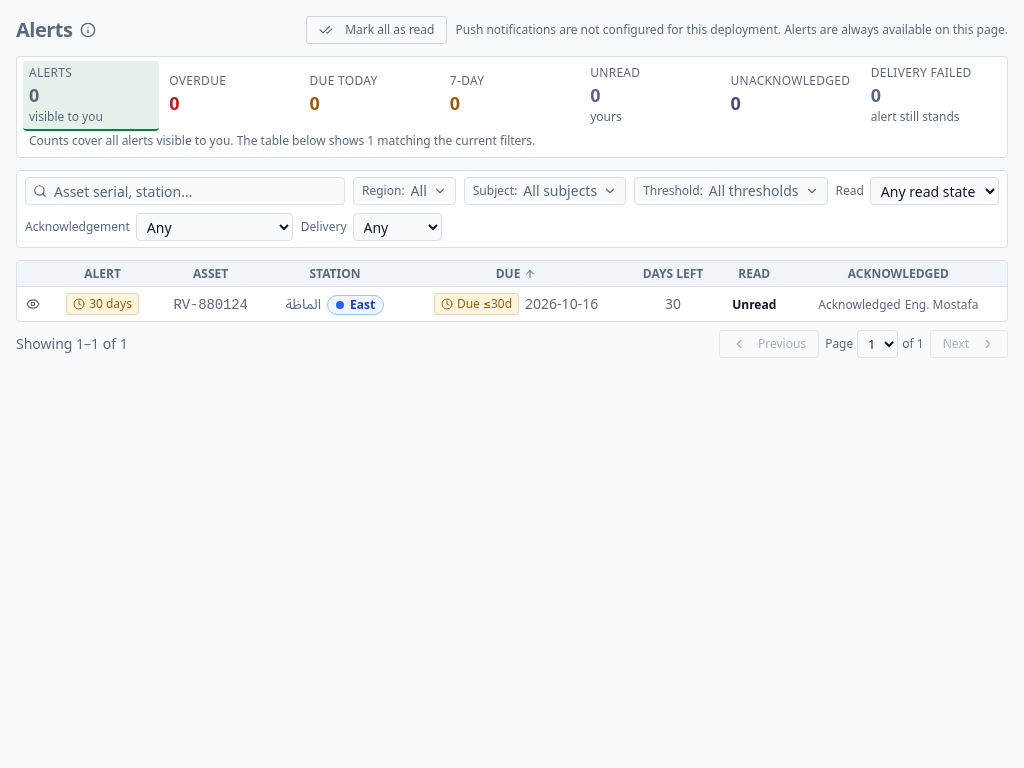
Scenario: Acknowledgement › shows the server-recorded actor and disables re-acknowledgement
The image size is (1024, 768).
Expected: the text "RV-880124" is shown, left=174, top=296, right=248, bottom=312
Expected: the text "Eng. Mostafa" is shown, left=905, top=296, right=978, bottom=313
Click the button named "show the full technical record": (33, 304) left=23, top=294, right=43, bottom=314
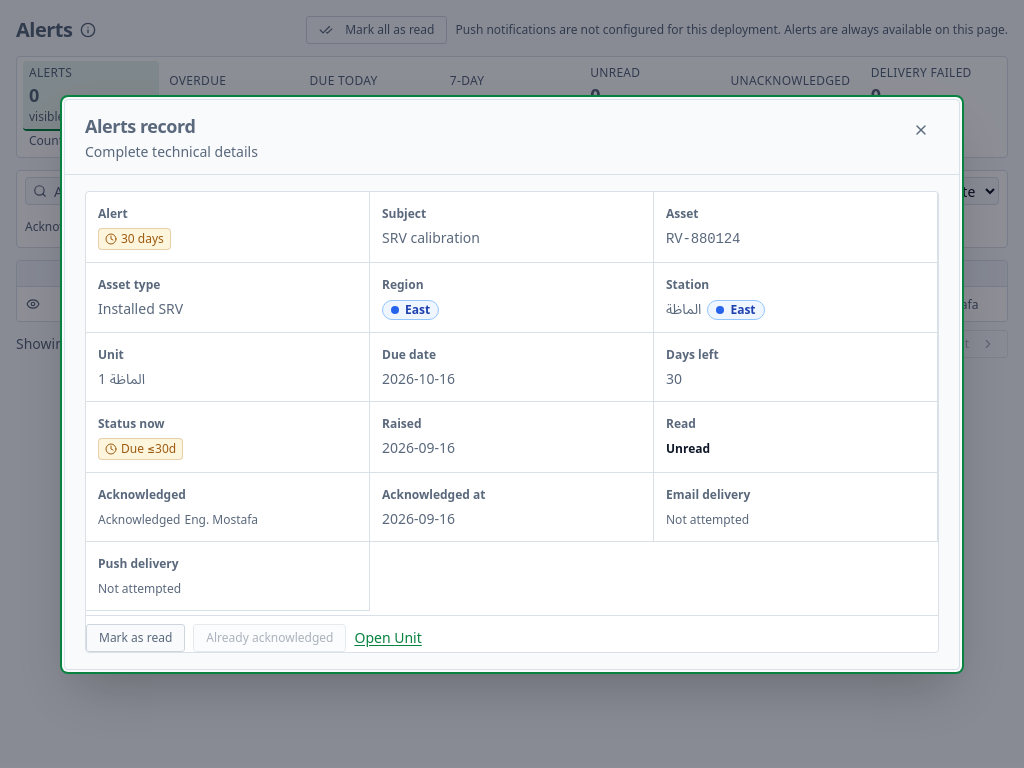
Expected: the button "Already acknowledged" is disabled, left=193, top=624, right=346, bottom=652
